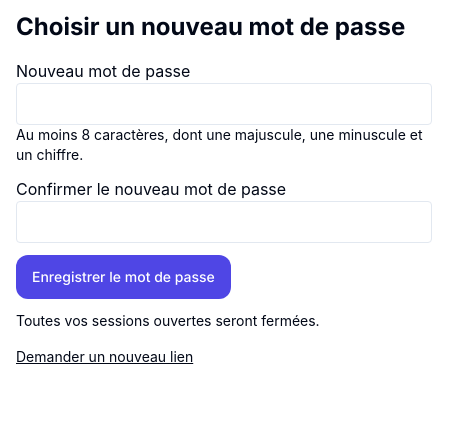
it: R24 institutional self-service reset (owner decision R21.1) › the reset page reads the token from the fragment, removes it from the address bar, refuses a weak or mismatched password before sending
Step 1. Type "motdepasse" into the password field labelled "Nouveau mot de passe" → point(224, 104), box x1=16 y1=83 x2=432 y2=125
Step 2. Click the button "Enregistrer le mot de passe" → point(123, 277), box x1=16 y1=255 x2=231 y2=299
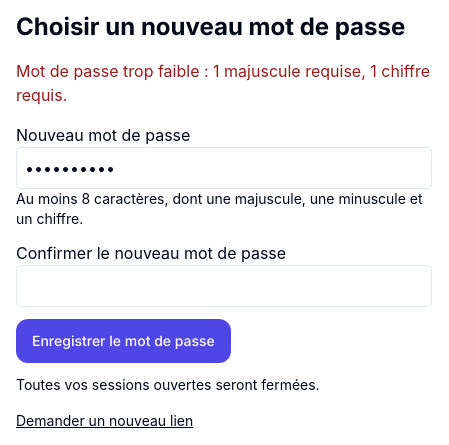
Result: the message shows "Mot de passe trop faible" at x1=16 y1=61 x2=430 y2=105
Step 3. Type "Choisi-Par-Lien-24" into the password field labelled "Nouveau mot de passe" → point(224, 168), box x1=16 y1=147 x2=432 y2=189
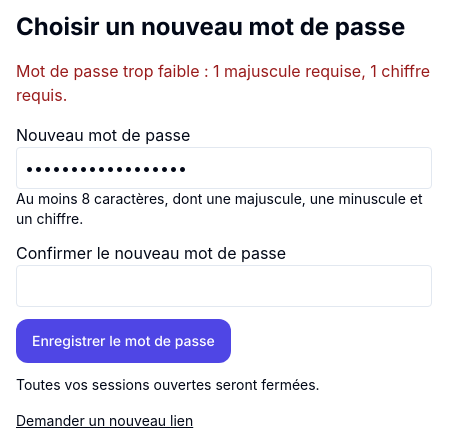
Step 4. Type "Autre-Chose-24" into the password field labelled "Confirmer le nouveau mot de passe" → point(224, 286), box x1=16 y1=265 x2=432 y2=307
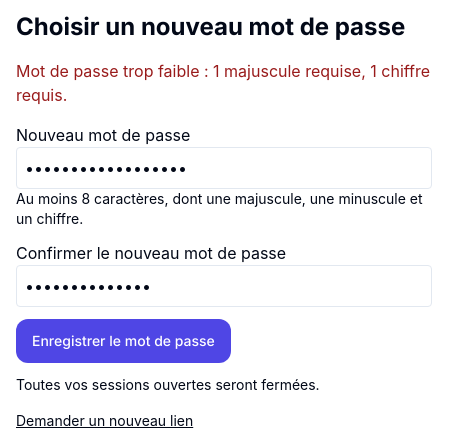
Step 5. Click the button "Enregistrer le mot de passe" → point(123, 341), box x1=16 y1=319 x2=231 y2=363
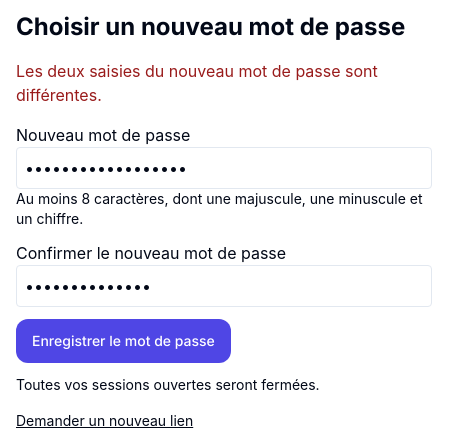
Result: the message shows "différentes" at x1=16 y1=61 x2=378 y2=105
Step 6. Type "Choisi-Par-Lien-24" into the password field labelled "Confirmer le nouveau mot de passe" → point(224, 286), box x1=16 y1=265 x2=432 y2=307
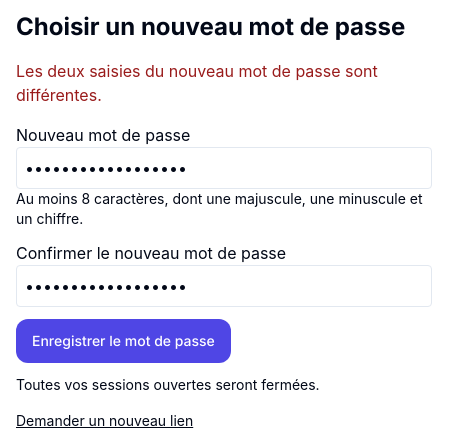
Step 7. Click the button "Enregistrer le mot de passe" → point(123, 341), box x1=16 y1=319 x2=231 y2=363
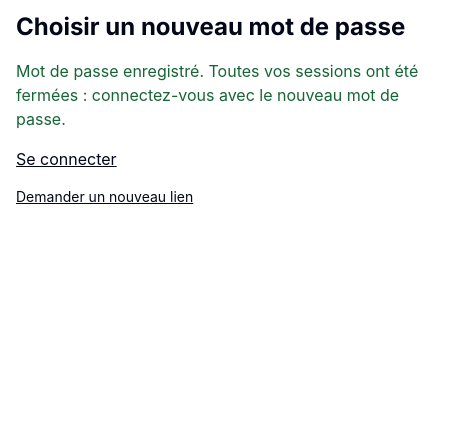
Result: the link with test id "institution-reset-login" is shown at x1=16 y1=149 x2=117 y2=169
